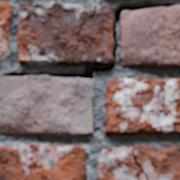brick: (17, 2, 113, 66), (0, 77, 93, 136), (105, 77, 179, 135), (120, 5, 179, 68), (98, 146, 144, 179), (135, 145, 179, 179), (0, 2, 11, 59)
broken_brick: (0, 143, 87, 179)
crack: (2, 0, 177, 79), (131, 145, 149, 179)
